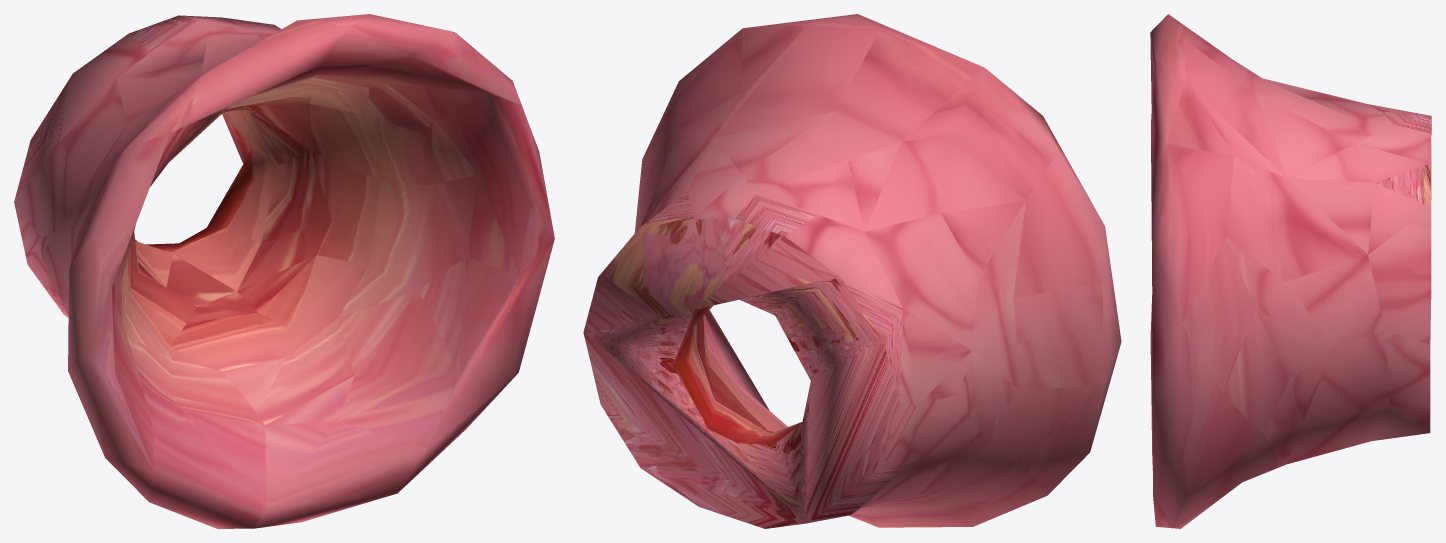
The model's file is Throat.fbx.
The picture shows the model from 3 angles, left to right: view 1: azimuth 30°, elevation 25°; view 2: azimuth 150°, elevation 25°; view 3: azimuth 270°, elevation 25°; orthographic projection. The views are drawn at different scales.
Visible parts, largest first — view 1: Mesh_0; view 2: Mesh_0; view 3: Mesh_0.
Part boxes in pixels (x1=…): Mesh_0: x1=14, y1=14, x2=554, y2=528; Mesh_0: x1=583, y1=14, x2=1121, y2=528; Mesh_0: x1=1150, y1=14, x2=1431, y2=528.
Size of the model in its own units: 1.75 by 1.77 by 0.9651.
1 material, 1 textured.
